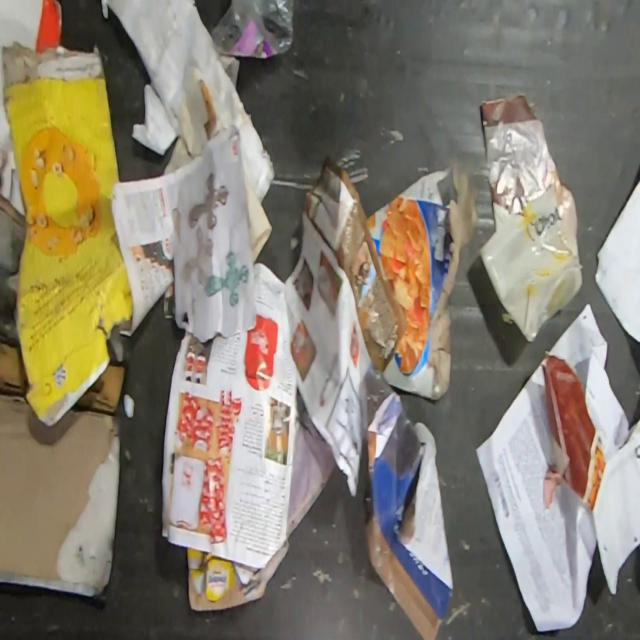cardboard: (0, 39, 134, 428), (365, 160, 479, 401), (0, 393, 121, 598), (186, 538, 290, 611), (74, 364, 126, 412), (0, 340, 28, 396)
rigid_plastic: (478, 171, 583, 343)
soft_plastic: (210, 0, 294, 59)
